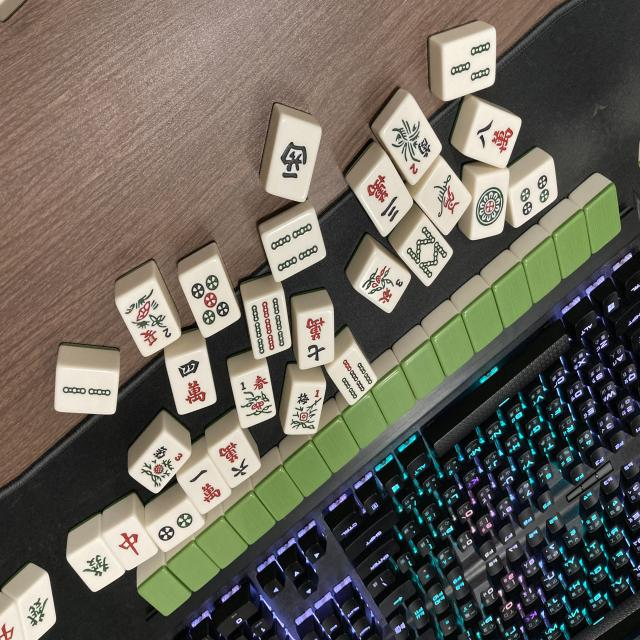f1: (133, 432, 190, 494), (284, 383, 326, 436)
f2: (379, 96, 444, 185)
fa: (69, 537, 127, 594), (14, 585, 61, 639)
ff1: (233, 366, 277, 425)
ff2: (118, 279, 180, 358)
ff3: (355, 252, 412, 314)
m1: (179, 457, 234, 517)
m3: (355, 160, 415, 237)
m4: (167, 352, 216, 417)
m6: (210, 431, 263, 489)
m7: (298, 309, 336, 369)
m8: (467, 105, 522, 170)
s1: (416, 159, 475, 234)
s2: (57, 369, 120, 415)
s3: (442, 33, 496, 101)
s4: (261, 213, 326, 284)
s7: (328, 348, 378, 406)
s8: (399, 221, 455, 287)
s9: (248, 293, 294, 360)
t1: (469, 172, 511, 242)
t2: (146, 500, 207, 555)
t4: (509, 162, 561, 227)
t5: (180, 256, 241, 338)
west: (267, 117, 321, 205)
zhong: (104, 516, 160, 572), (0, 610, 28, 640)
